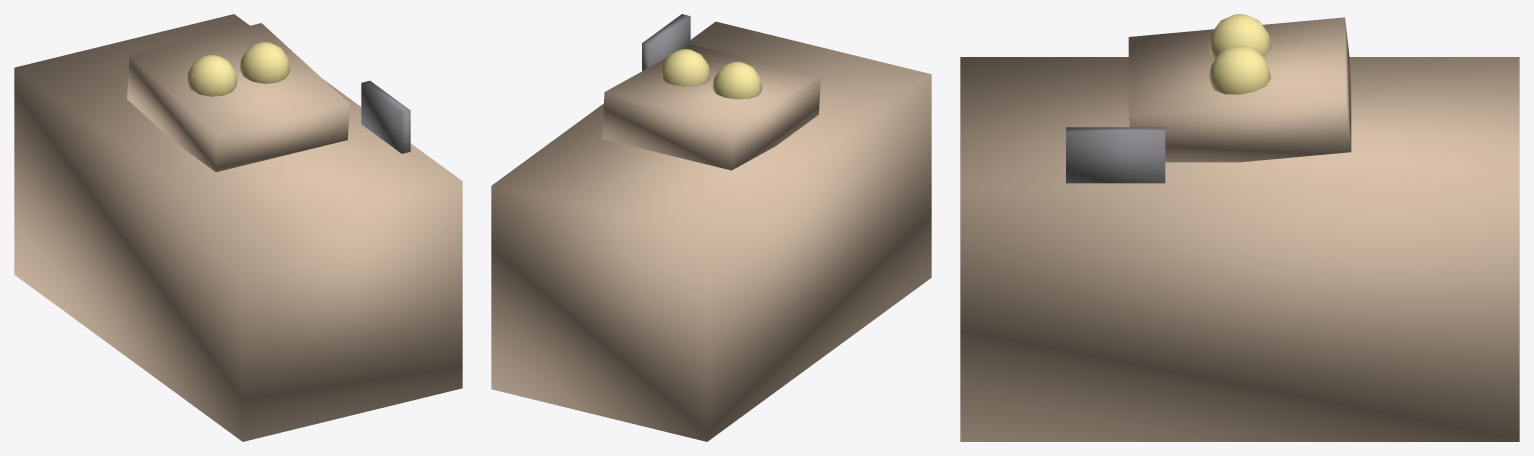
Rendered from fruit_market_lv1.glb.
The picture shows the model from 3 angles, left to right: view 1: azimuth 30°, elevation 25°; view 2: azimuth 150°, elevation 25°; view 3: azimuth 270°, elevation 25°; orthographic projection. The views are drawn at different scales.
Parts seen in each view (by area): view 1: table, crate, price_chalkboard, mango_1, mango_2; view 2: table, crate, price_chalkboard, mango_2, mango_1; view 3: table, crate, price_chalkboard, mango_2, mango_1.
Boxes of the visible parts, <box> form: table: <box>14,14,462,441</box>; crate: <box>127,23,349,171</box>; price_chalkboard: <box>361,80,410,153</box>; mango_1: <box>186,55,237,96</box>; mango_2: <box>239,42,290,83</box>; table: <box>491,21,931,441</box>; crate: <box>602,44,820,170</box>; price_chalkboard: <box>642,14,690,71</box>; mango_2: <box>660,49,710,86</box>; mango_1: <box>712,61,762,99</box>; table: <box>960,57,1519,441</box>; crate: <box>1128,17,1351,162</box>; price_chalkboard: <box>1066,127,1165,183</box>; mango_2: <box>1209,45,1270,94</box>; mango_1: <box>1209,14,1270,59</box>.
Size of the model in its own units: 0.5 by 0.61 by 0.9.
